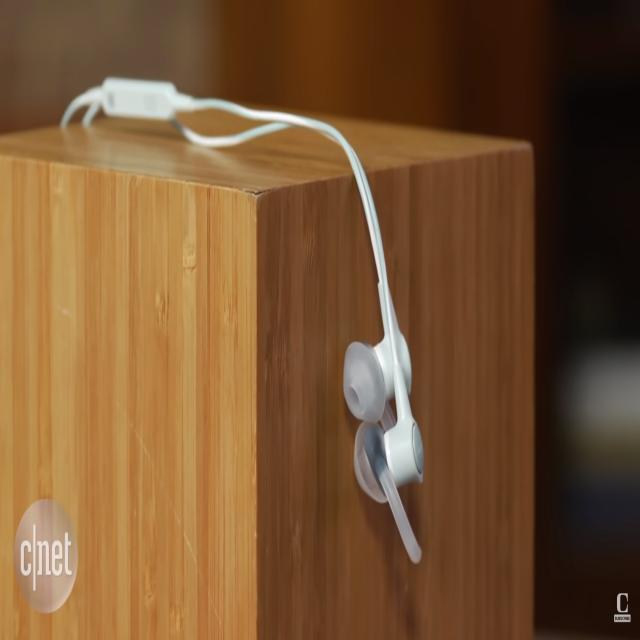Earphone: (63, 79, 425, 567)
